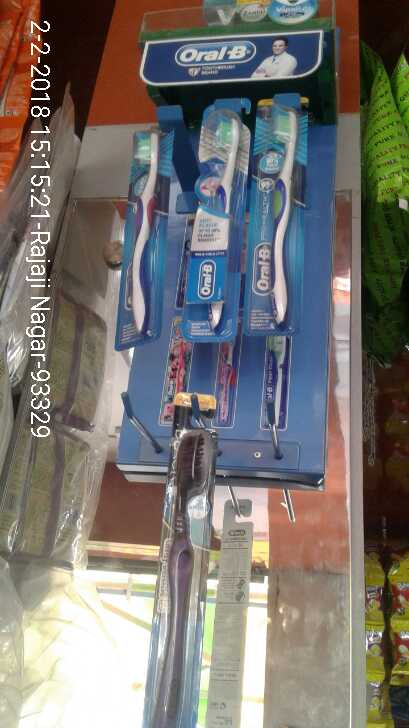oralb: (257, 92, 298, 341), (190, 109, 238, 305), (123, 122, 168, 330)
